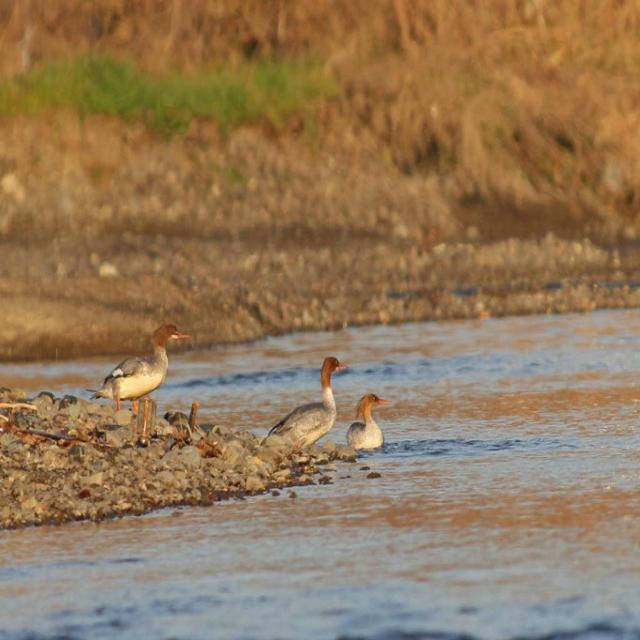bird: (255, 353, 356, 471), (92, 325, 187, 448), (338, 394, 392, 455)
